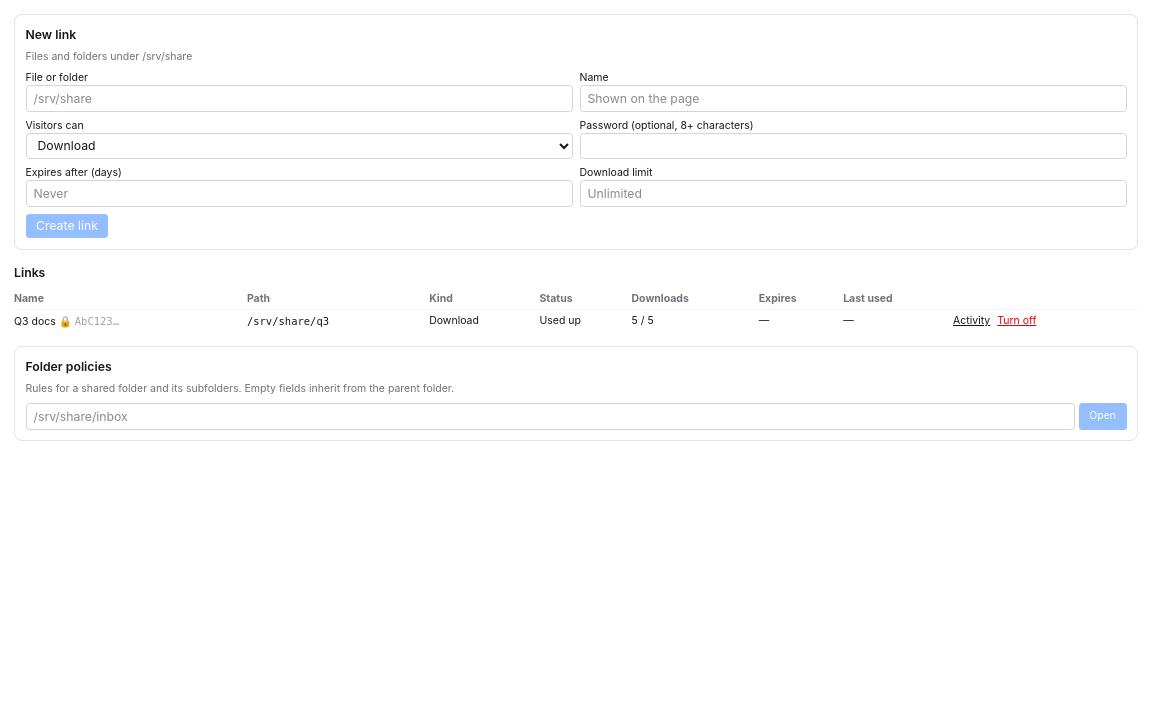
Test: share links panel › creates a link, shows it once and lists links with status
This screenshot has width=1152, height=720.
Expected: the text "Used up" is shown, [540, 310, 632, 332]
Expected: the text "Files and folders under /srv/share" is shown, [26, 50, 192, 63]
Type "/srv/share/inbox" into the field named "Path" at x=299, y=98, box [26, 85, 572, 112]
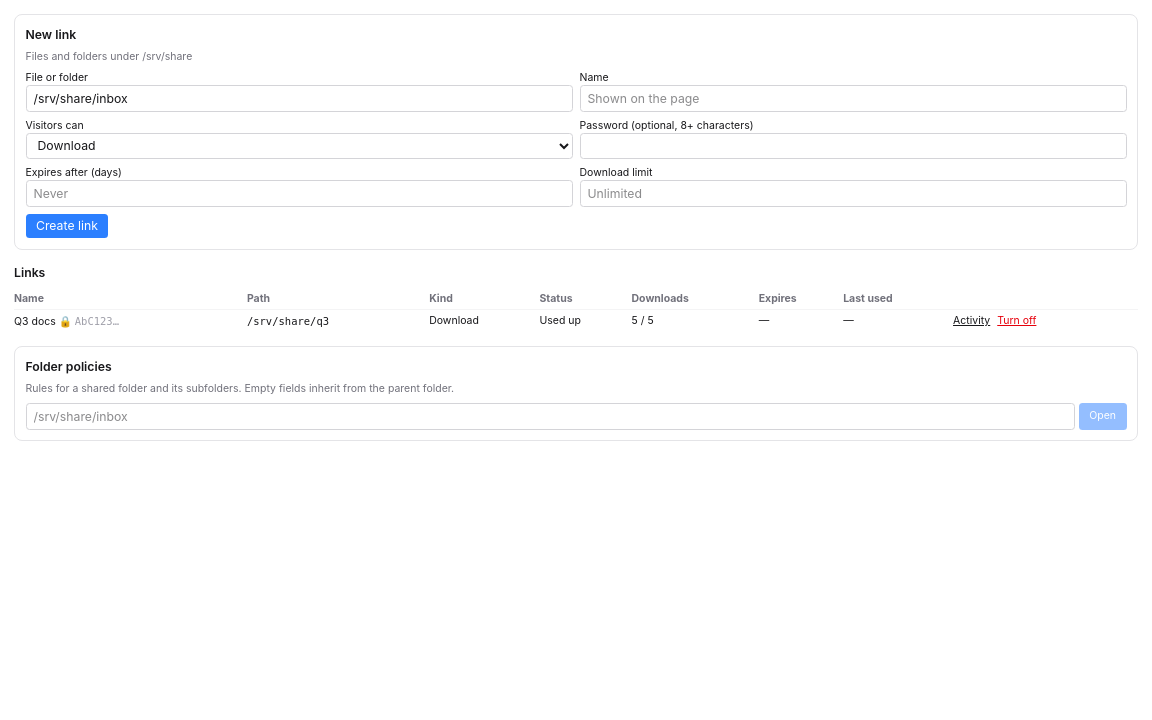
Select "Upload (drop box)" in the dropdown named "Link kind" at x=299, y=146, box [26, 132, 572, 158]
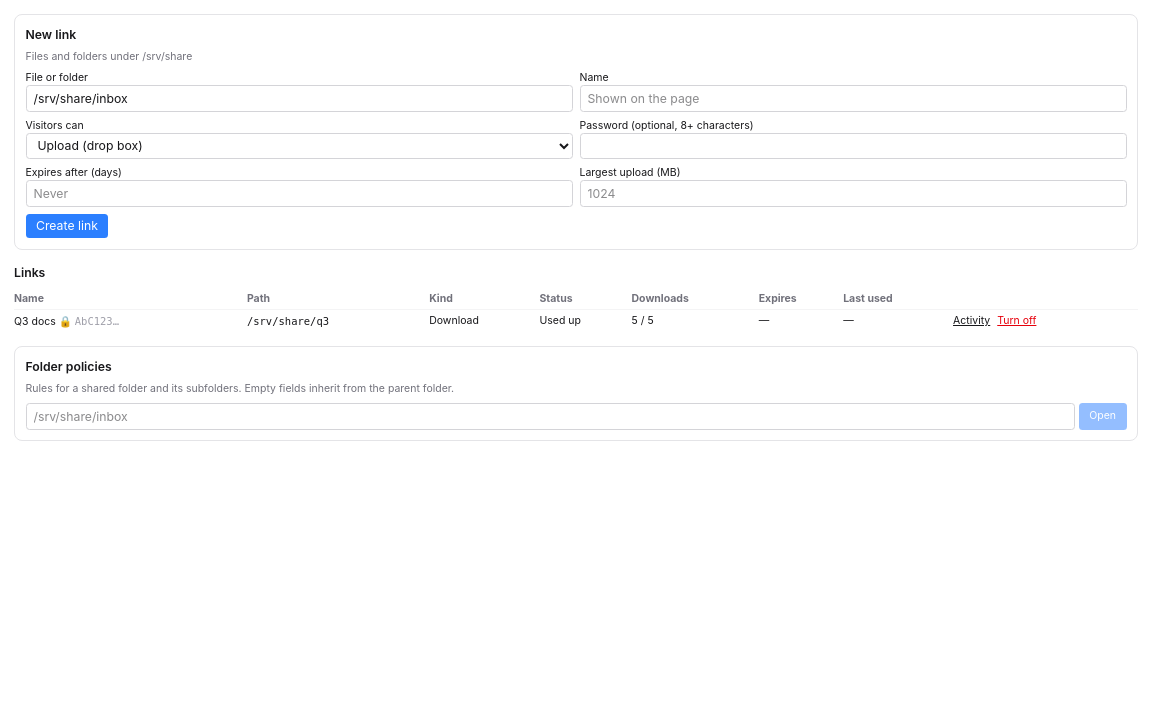
Expected: the label labelled "Download limit" is gone
Type "50" into the number field labelled "Largest upload" at x=853, y=193, box [580, 180, 1126, 206]
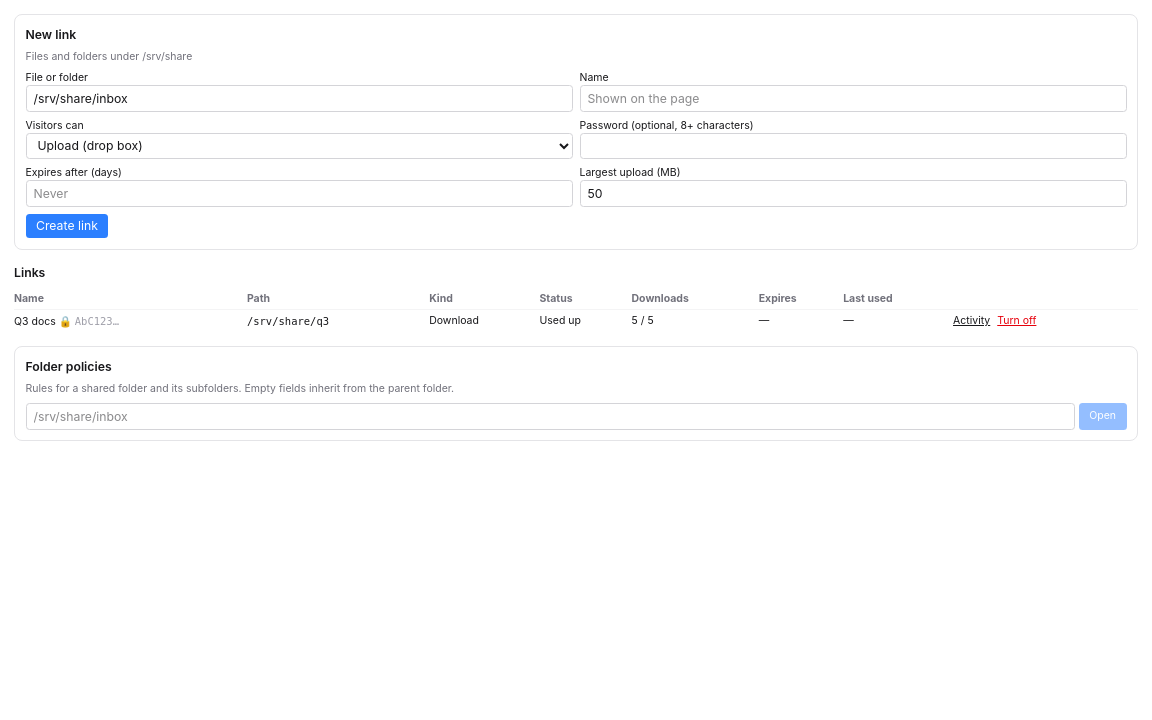
Type "7" into the number field named "Expires after days" at x=299, y=193, box [26, 180, 572, 206]
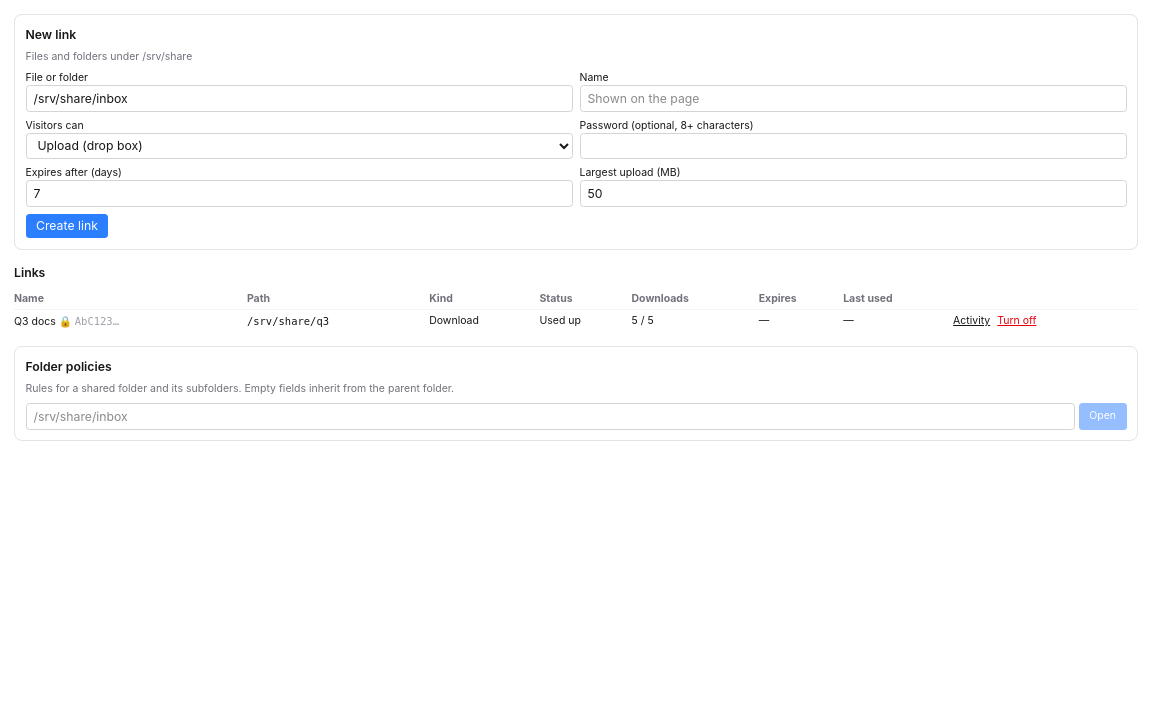
Click the button "Create link" at x=67, y=226, box [26, 214, 108, 238]
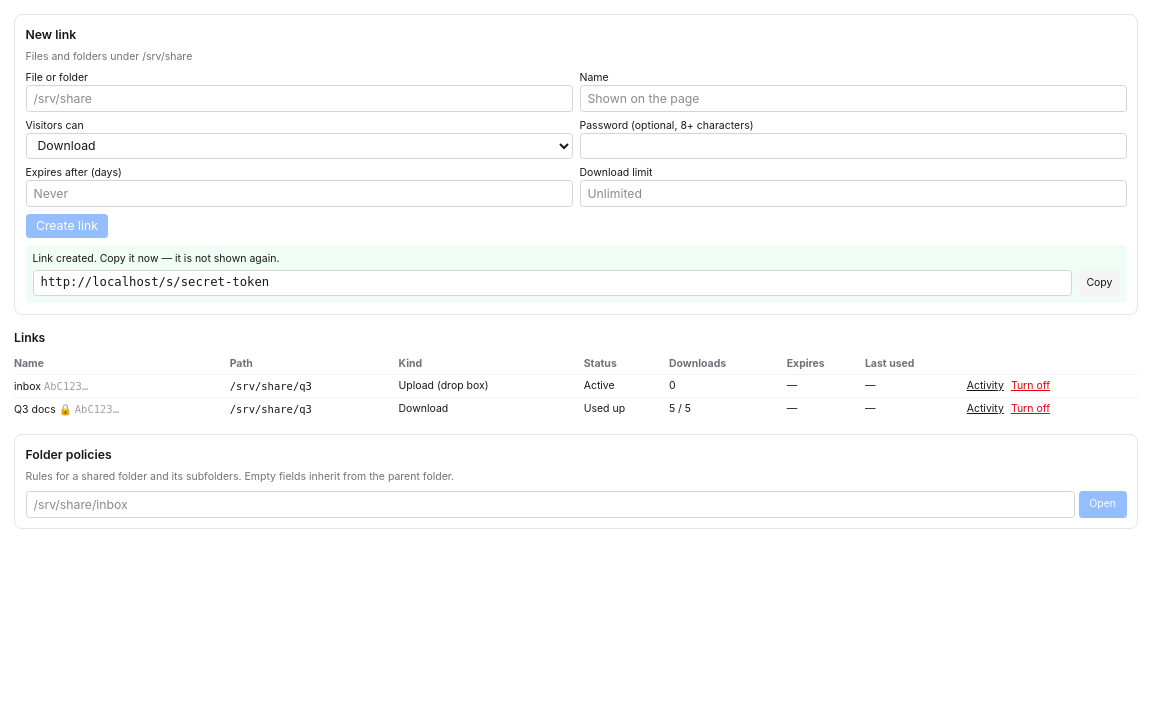
Expected: the text "inbox" is shown, [14, 380, 41, 392]
